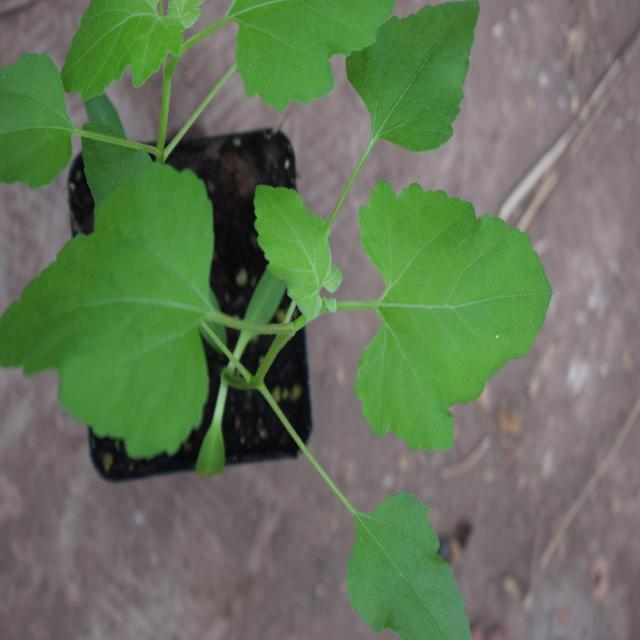cocklebur: (21, 11, 522, 556)
